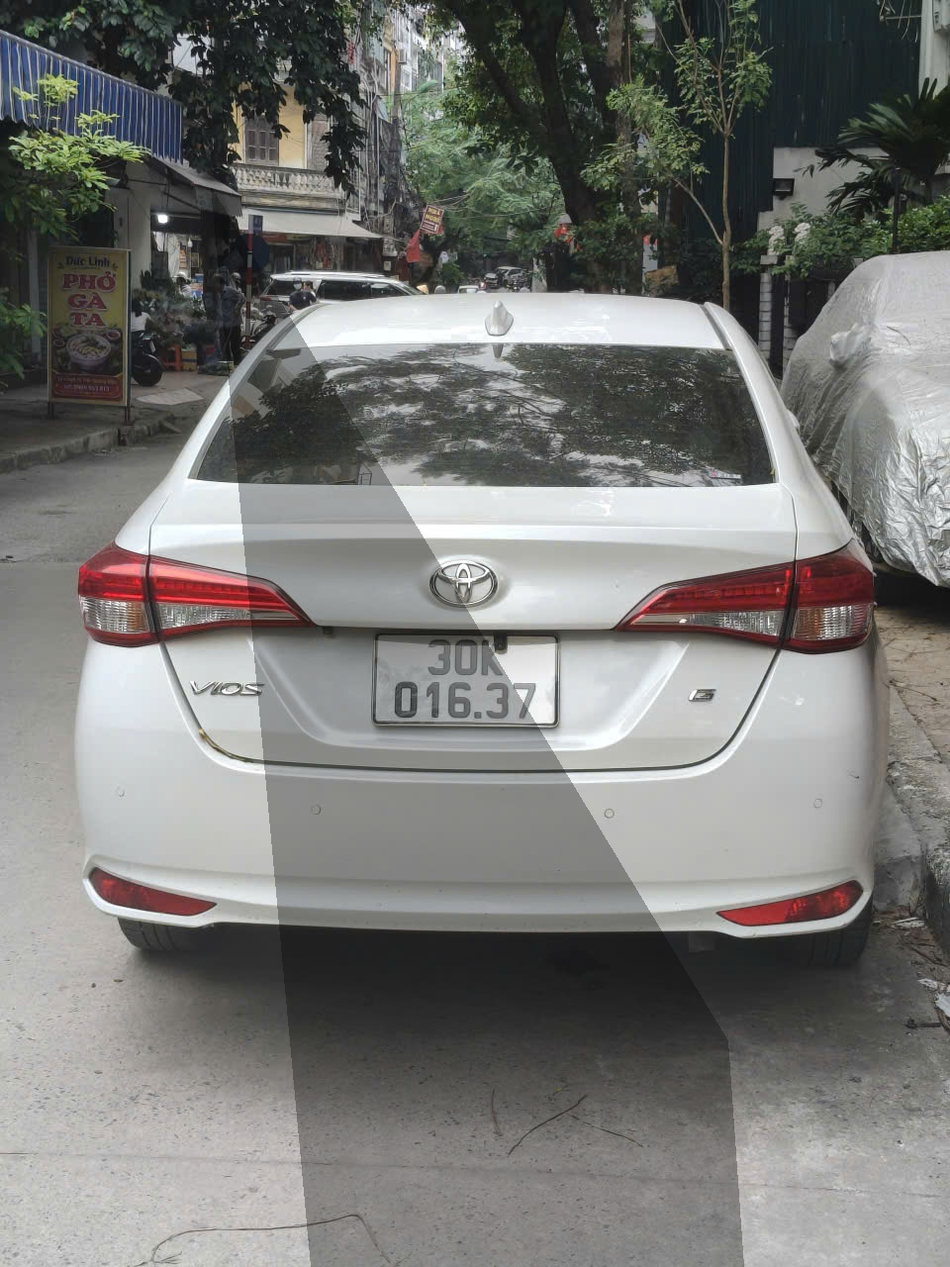plate: (276, 342, 430, 374)
